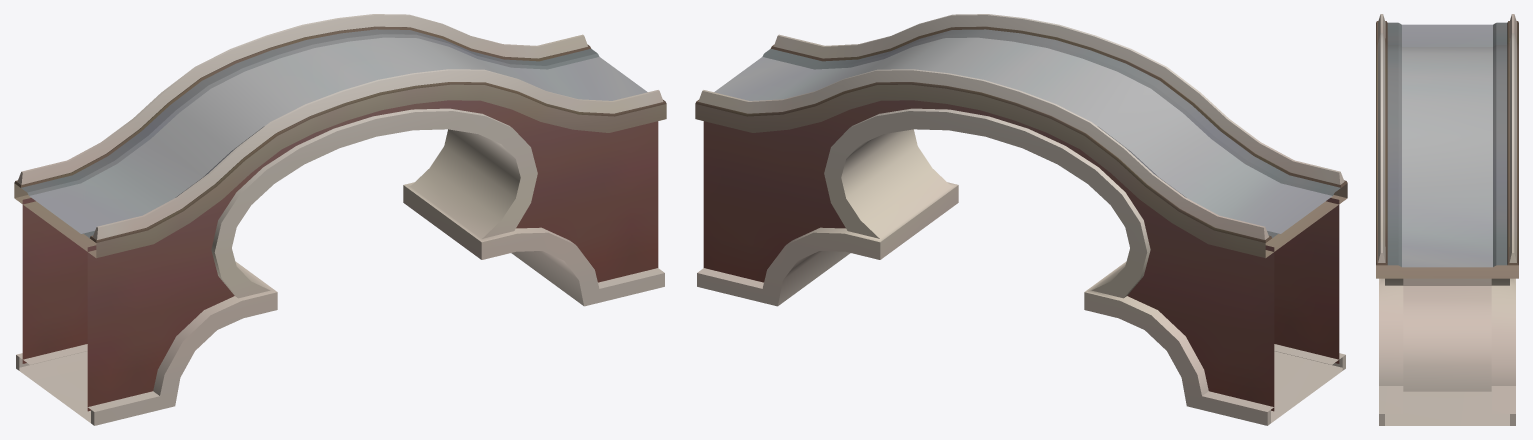
The model's file is M_Bridge_01.fbx.
3 views of the same model, side by side, from view 1: azimuth 30°, elevation 25°; view 2: azimuth 150°, elevation 25°; view 3: azimuth 270°, elevation 25° (orthographic). The views are drawn at different scales.
Visible parts, largest first — view 1: M_Bridge_01; view 2: M_Bridge_01; view 3: M_Bridge_01.
Boxes of the visible parts, x1,y1,x2,y2 form: M_Bridge_01: [14, 14, 666, 425]; M_Bridge_01: [695, 14, 1347, 425]; M_Bridge_01: [1376, 14, 1518, 425].
Size of the model in its own units: 4469 by 2057 by 1112.
1 material, 1 textured.
